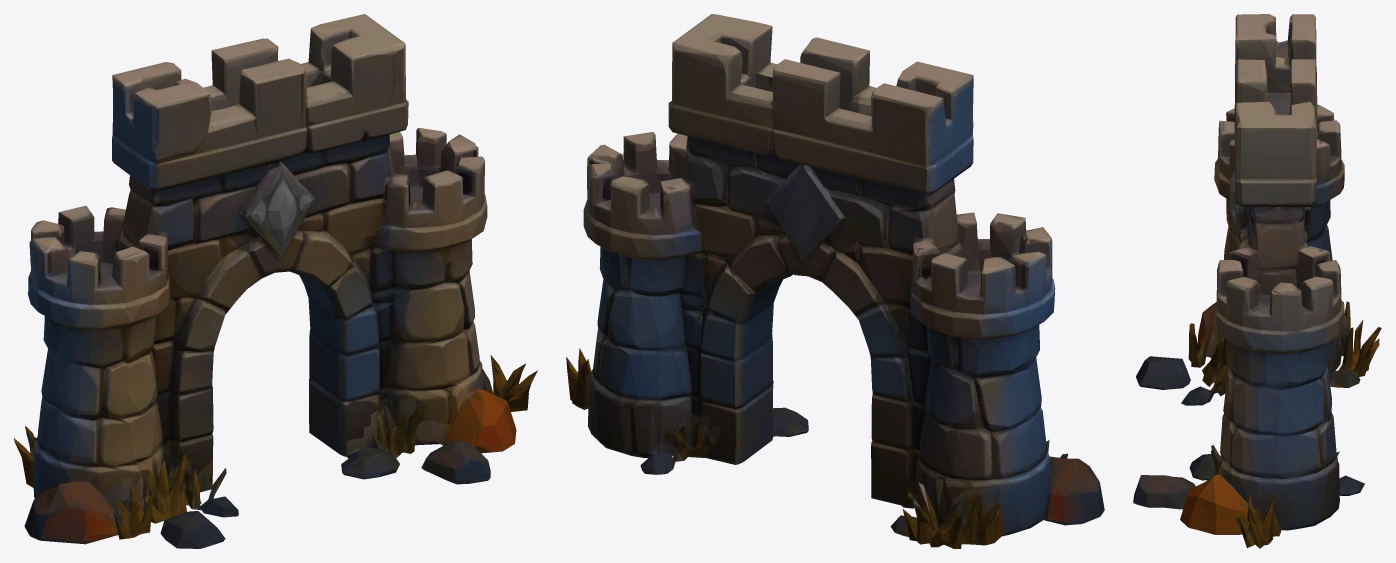
File: stone_gate_arch.glb
3 views of the same model, side by side, from view 1: azimuth 30°, elevation 25°; view 2: azimuth 150°, elevation 25°; view 3: azimuth 270°, elevation 25° (orthographic). The views are drawn at different scales.
Bounding box in the file's own units: 1.93 × 1.44 × 0.8855.
1 material, 1 textured.
